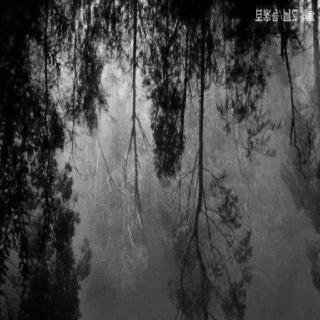Fire: (66, 12, 148, 275), (201, 10, 237, 176), (291, 3, 317, 103)
